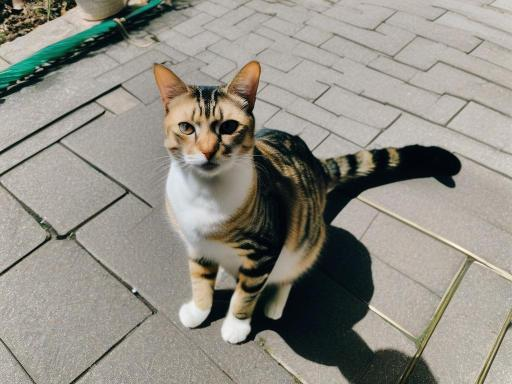cat_sitting: (154, 62, 460, 343)
